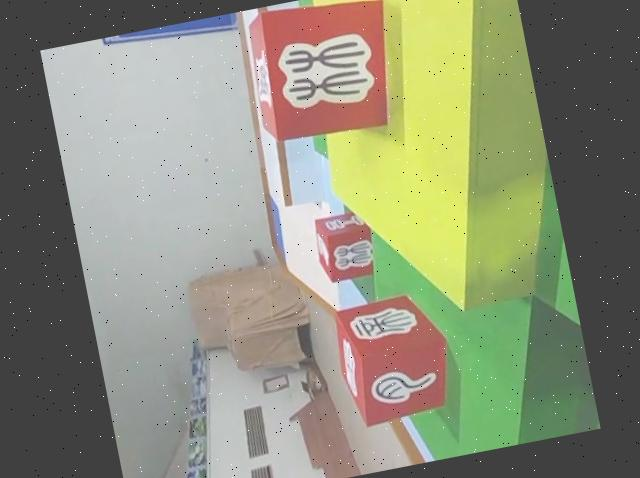R2 Fake: (237, 0, 410, 152), (328, 286, 463, 430), (308, 205, 383, 285)
